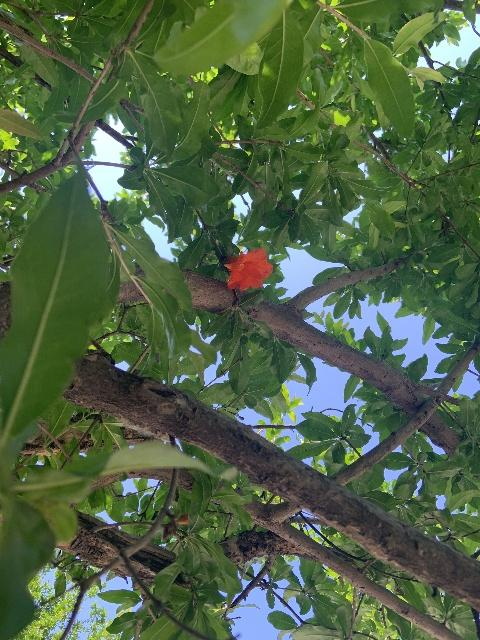flower: (224, 247, 272, 291)
